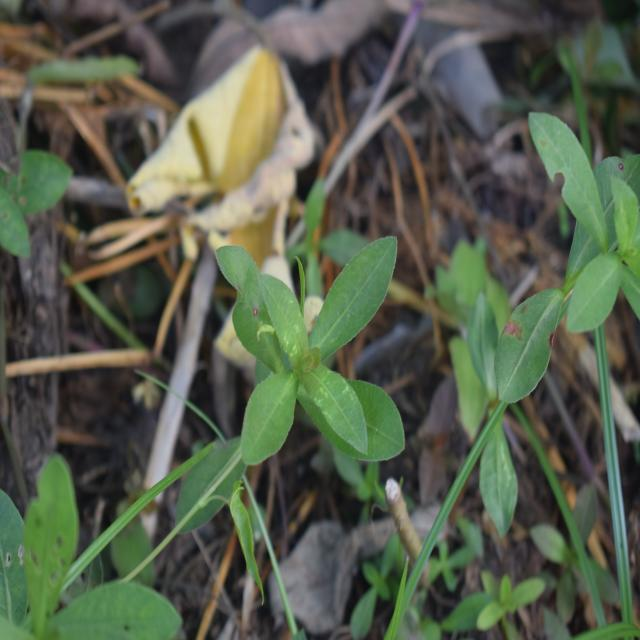Alligatorweed: (221, 236, 417, 500)
